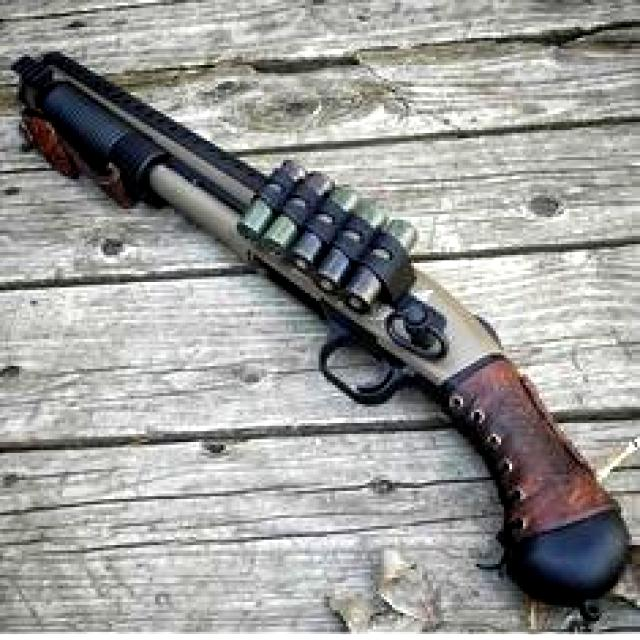shotgun: (8, 44, 637, 629)
